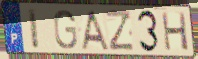3: (134, 9, 160, 54)
A: (79, 9, 111, 52)
G: (52, 9, 79, 51)
H: (160, 11, 190, 52)
I: (26, 7, 41, 51)
Z: (105, 9, 136, 52)
